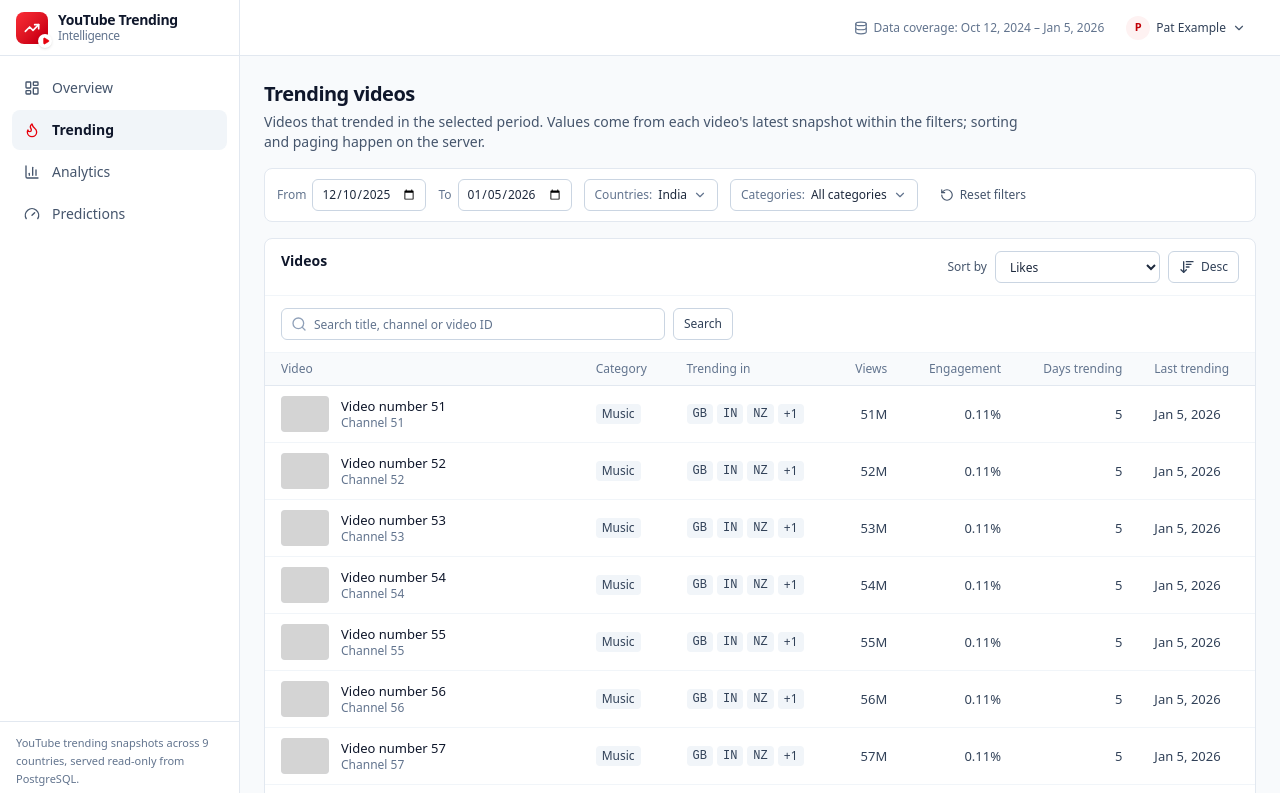
Scenario: routing › keeps global filters (but not page-specific params) when navigating
Expected: the heading "Trending videos" is shown, [264,80,415,107]
Click the link "Analytics": click(67, 172) [24,162,110,181]
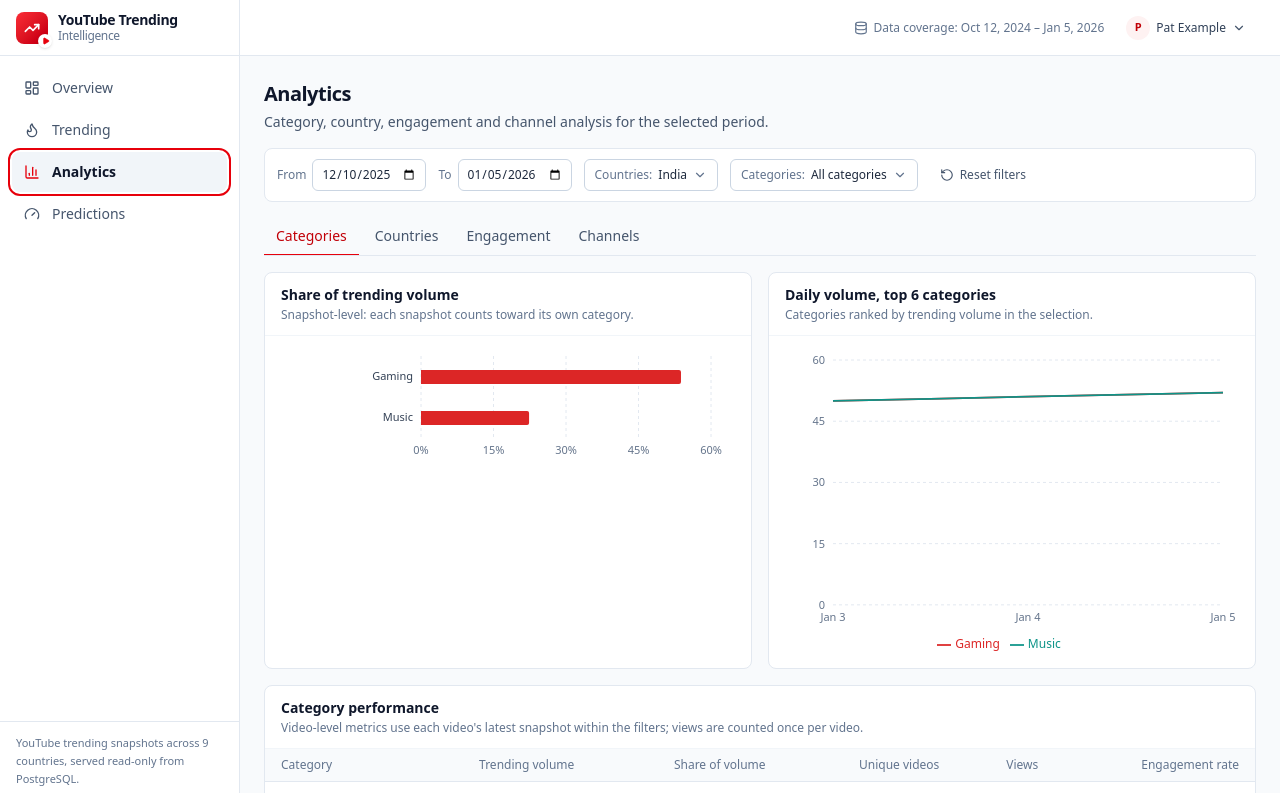
Expected: the heading "Analytics" is shown, [264,80,351,107]
